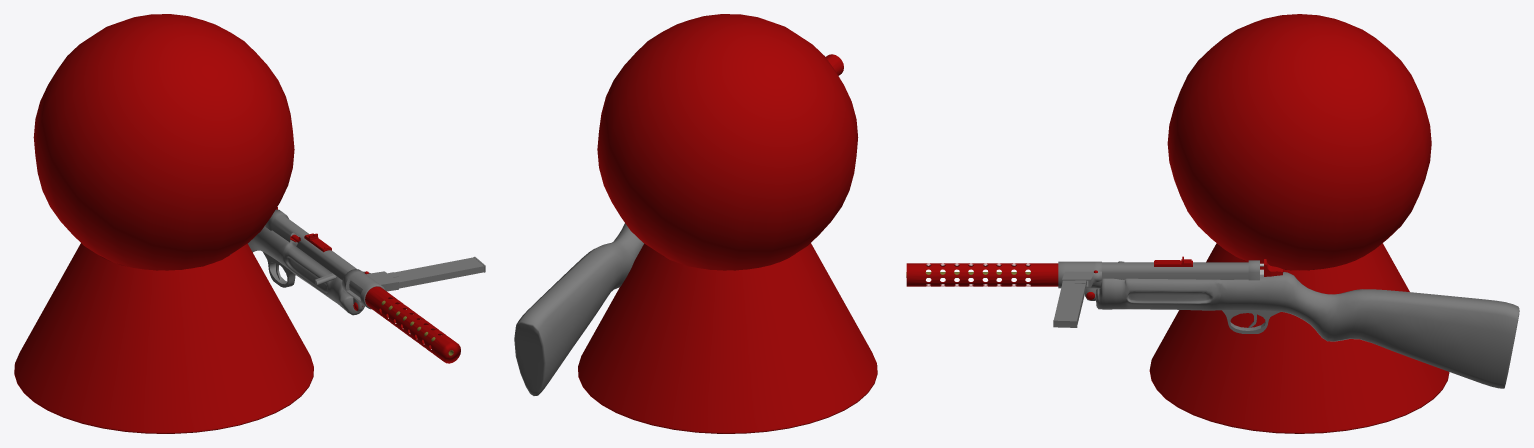
File: MP18_Red.fbx
3 views of the same model, side by side, from view 1: azimuth 30°, elevation 25°; view 2: azimuth 150°, elevation 25°; view 3: azimuth 270°, elevation 25° (orthographic).
Parts seen in each view (by area): view 1: polySurface8, polySurface7, polySurface11, polySurface12, polySurface16, polySurface23, polySurface21, polySurface26; view 2: polySurface8, polySurface7, polySurface11; view 3: polySurface8, polySurface7, polySurface11, polySurface12, polySurface16, polySurface23, polySurface21, polySurface26.
Boxes of the visible parts, <box> form: polySurface8: <box>33,14,294,270</box>; polySurface7: <box>14,243,313,433</box>; polySurface11: <box>230,225,364,315</box>; polySurface12: <box>365,286,460,363</box>; polySurface16: <box>265,209,356,279</box>; polySurface23: <box>388,256,485,288</box>; polySurface21: <box>342,269,398,309</box>; polySurface26: <box>263,252,295,287</box>; polySurface8: <box>597,14,858,270</box>; polySurface7: <box>578,243,877,433</box>; polySurface11: <box>514,223,643,395</box>; polySurface8: <box>1167,14,1431,270</box>; polySurface7: <box>1149,243,1449,433</box>; polySurface11: <box>1096,272,1519,388</box>; polySurface12: <box>906,263,1058,286</box>; polySurface16: <box>1102,260,1259,280</box>; polySurface23: <box>1053,280,1086,327</box>; polySurface21: <box>1058,261,1101,288</box>; polySurface26: <box>1222,310,1280,333</box>.
Size of the model in its own units: 99.6 by 99.62 by 160.
